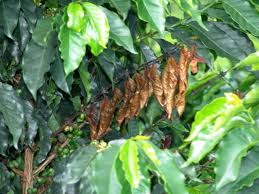mal de hilachas: (75, 56, 244, 143)
